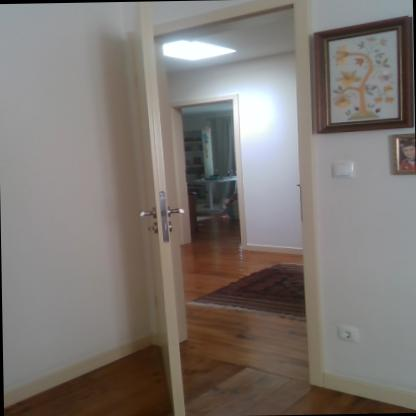open: (90, 9, 330, 394)
